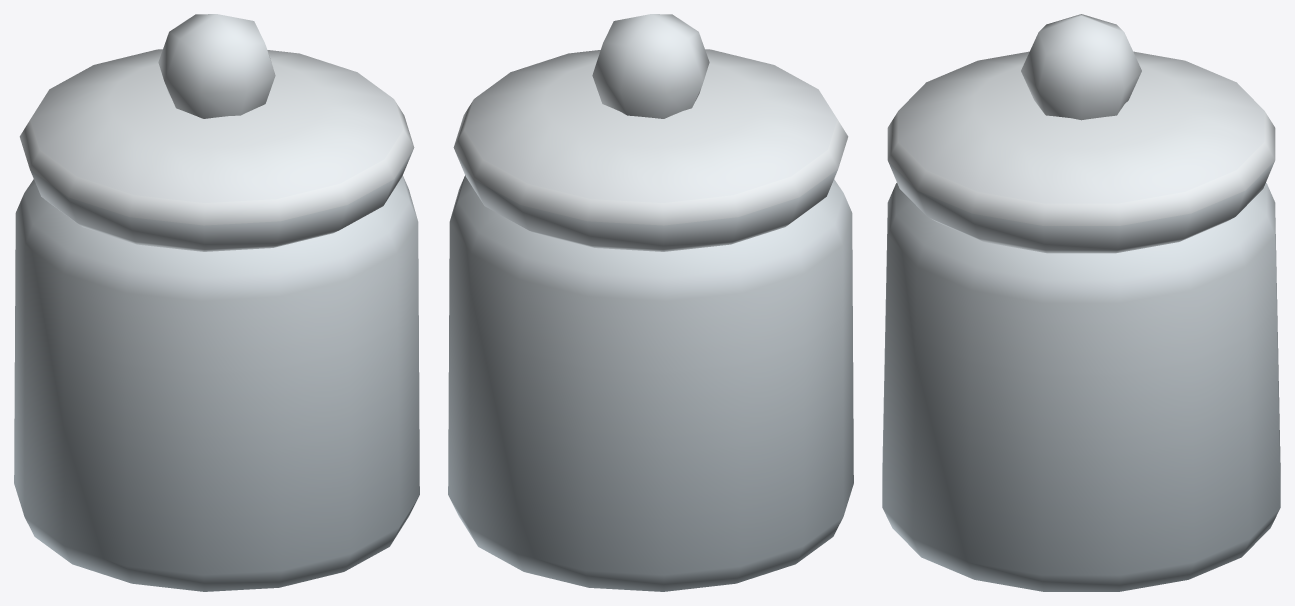
Rendered from cookie-jar.glb.
The picture shows the model from 3 angles, left to right: view 1: azimuth 30°, elevation 25°; view 2: azimuth 150°, elevation 25°; view 3: azimuth 270°, elevation 25°; orthographic projection.
Parts seen in each view (by area): view 1: cookie_jar; view 2: cookie_jar; view 3: cookie_jar.
Part boxes in pixels (x1,y1,x2,y2): cookie_jar: (14,14,419,591); cookie_jar: (448,14,853,591); cookie_jar: (882,14,1280,591).
Size of the model in its own units: 0.5455 by 0.7629 by 0.5455.
Materials: 1 (1 with a texture image).
